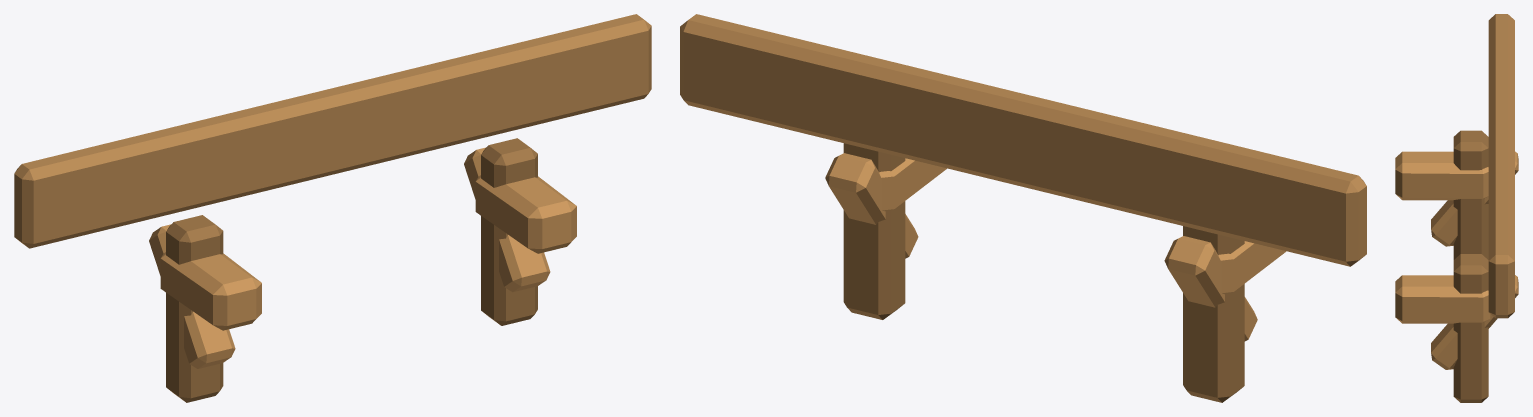
File: eave_trim.glb
3 views of the same model, side by side, from view 1: azimuth 30°, elevation 25°; view 2: azimuth 150°, elevation 25°; view 3: azimuth 270°, elevation 25° (orthographic). The views are drawn at different scales.
Parts seen in each view (by area): view 1: eave_trim; view 2: eave_trim; view 3: eave_trim.
Part boxes in pixels (left/top/right/bottom): eave_trim: left=14, top=14, right=651, bottom=402; eave_trim: left=680, top=14, right=1366, bottom=402; eave_trim: left=1395, top=14, right=1518, bottom=402.
Size of the model in its own units: 1 by 0.38 by 0.2117.
